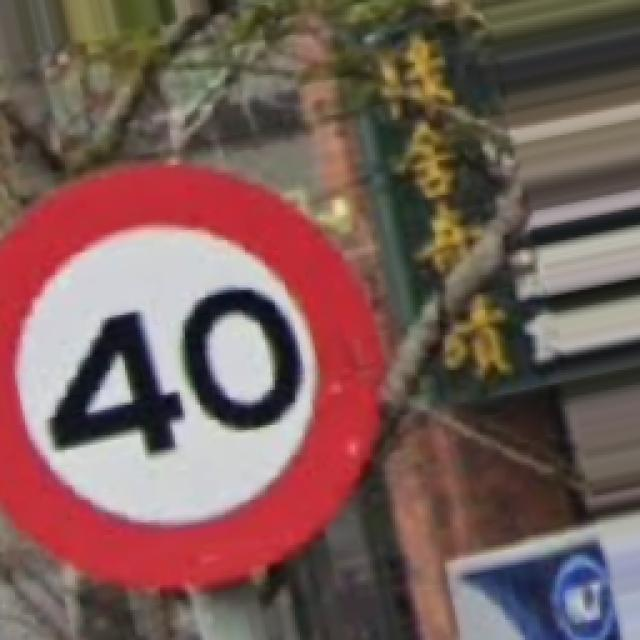Speed Limit -40-: (0, 165, 382, 585)
